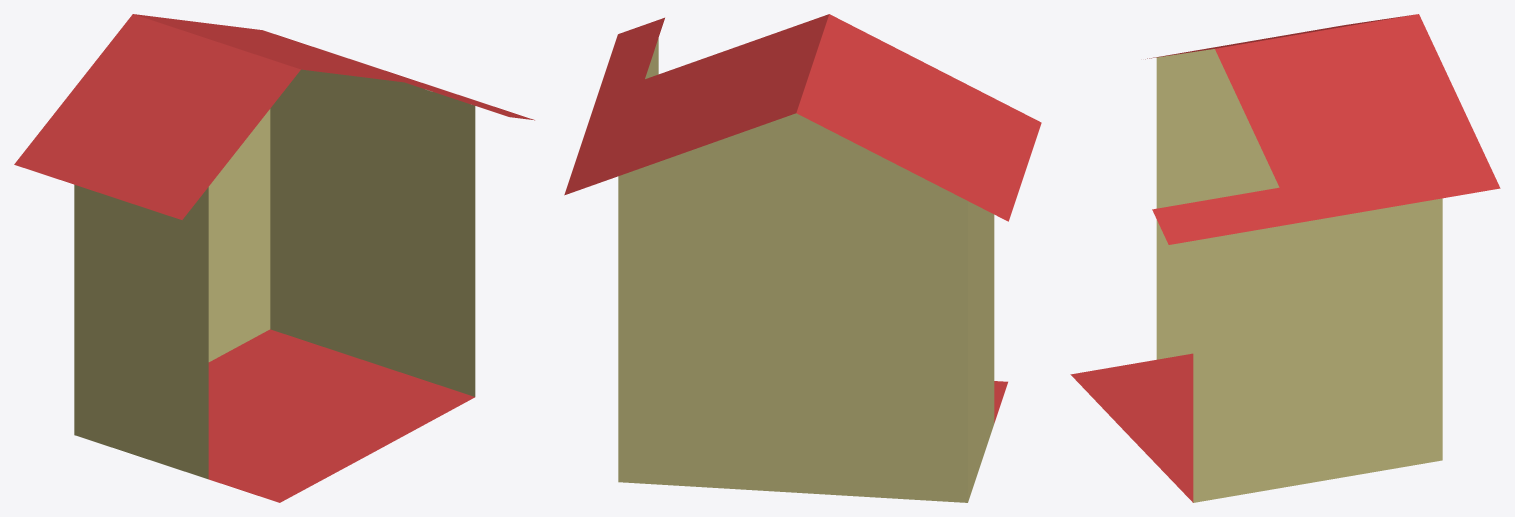
The picture shows the model from 3 angles, left to right: view 1: azimuth 30°, elevation 25°; view 2: azimuth 150°, elevation 25°; view 3: azimuth 270°, elevation 25°; orthographic projection. The views are drawn at different scales.
Bounding box in the file's own units: 8.78 × 7.26 × 6.92.
